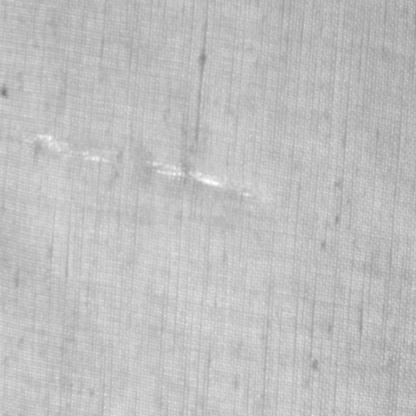thread error: (25, 130, 279, 210)
